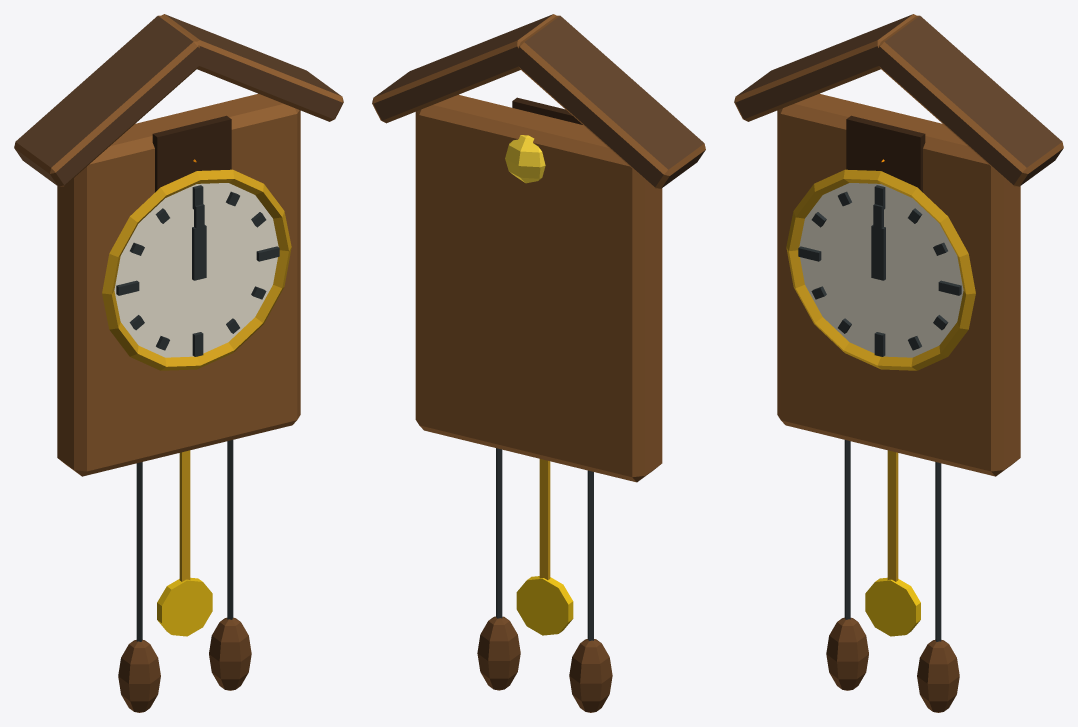
Rendered from kuckucksuhr.glb.
3 renders of one model, left to right at view 1: azimuth 30°, elevation 25°; view 2: azimuth 150°, elevation 25°; view 3: azimuth 330°, elevation 25°, orthographic.
Visible parts, largest first — view 1: body, pend-m, hour-m; view 2: body, pend-m, bird-m; view 3: body, pend-m, hour-m.
Boxes of the visible parts, x1,y1,x2,y2 form: body: (14,14,343,712); pend-m: (157,450,212,636); hour-m: (192,225,206,280); body: (372,14,705,712); pend-m: (516,459,573,635); bird-m: (505,135,545,183); body: (734,14,1063,712); pend-m: (865,450,920,636); hour-m: (871,225,885,280).
Bounding box in the file's own units: 1.43 × 3.1 × 0.35.
